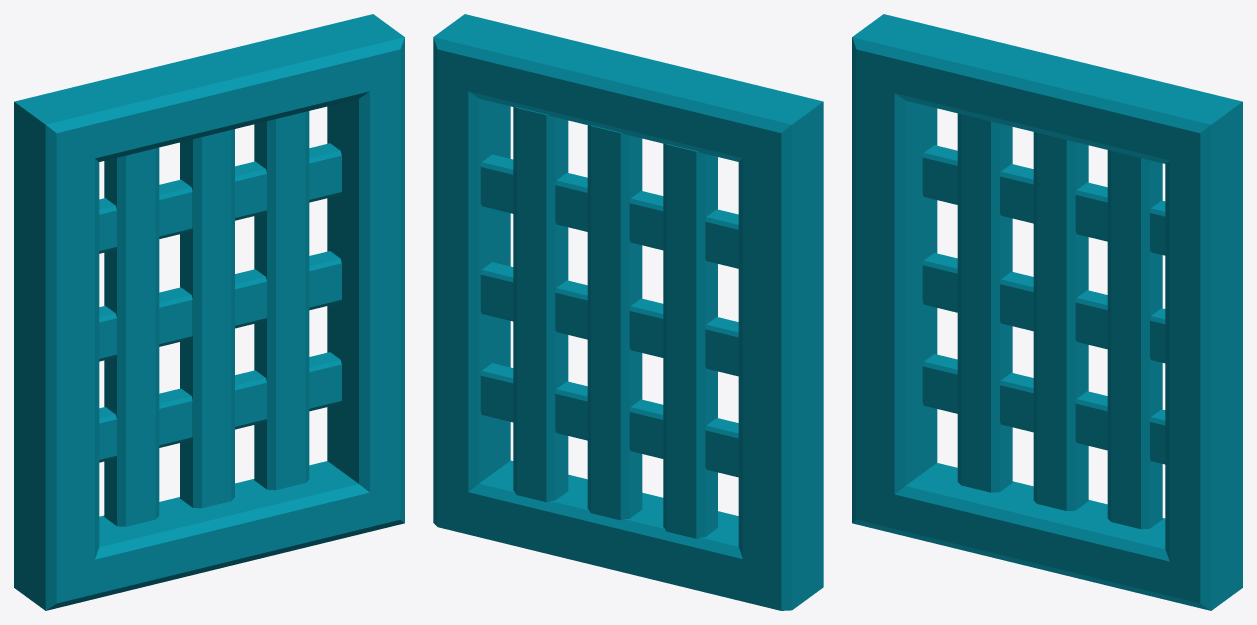
The model's file is big_door.fbx.
3 renders of one model, left to right at view 1: azimuth 30°, elevation 25°; view 2: azimuth 150°, elevation 25°; view 3: azimuth 330°, elevation 25°, orthographic.
Visible parts, largest first — view 1: Cube.005_Cube.021; view 2: Cube.005_Cube.021; view 3: Cube.005_Cube.021.
Part boxes in pixels (left/top/right/bottom): Cube.005_Cube.021: left=14, top=14, right=404, bottom=610; Cube.005_Cube.021: left=433, top=14, right=823, bottom=610; Cube.005_Cube.021: left=852, top=14, right=1242, bottom=610.
Size of the model in its own units: 180 by 233 by 33.17.
